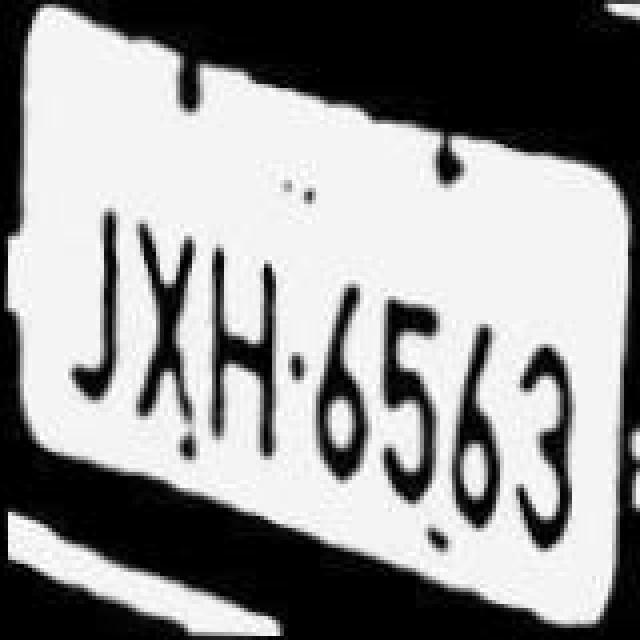3: (508, 326, 584, 558)
5: (374, 288, 446, 520)
6: (300, 266, 376, 494), (440, 316, 508, 532)
H: (198, 226, 286, 470)
J: (64, 194, 136, 418)
X: (124, 202, 204, 430)
